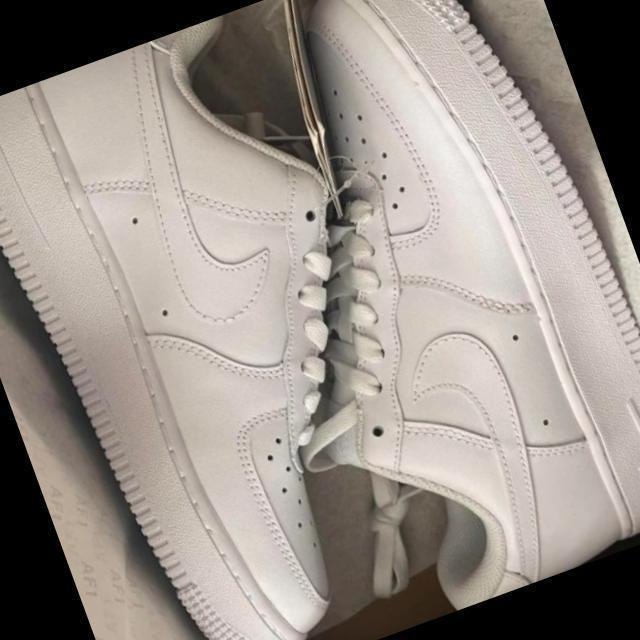nike original air force: (158, 0, 640, 640), (0, 4, 468, 640)
